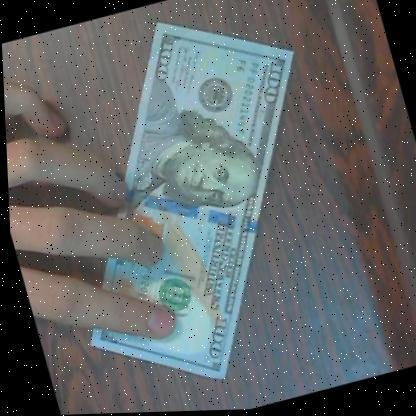one_hundred-front: (3, 0, 380, 416)
